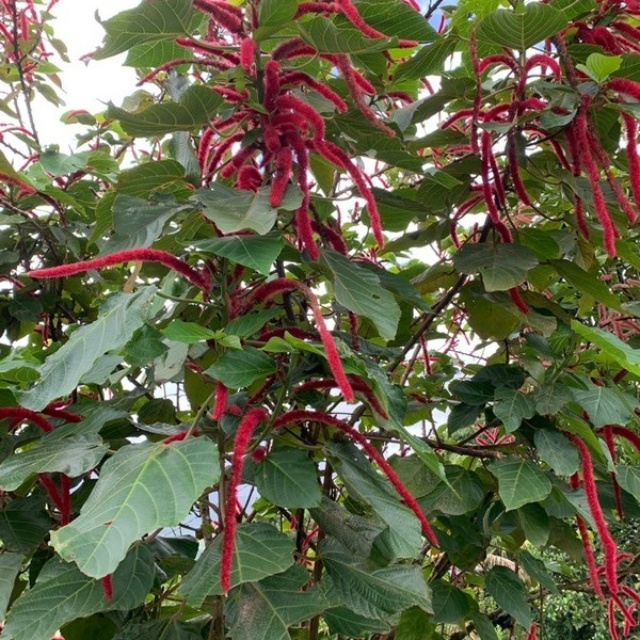obstacle: (159, 37, 443, 614)
